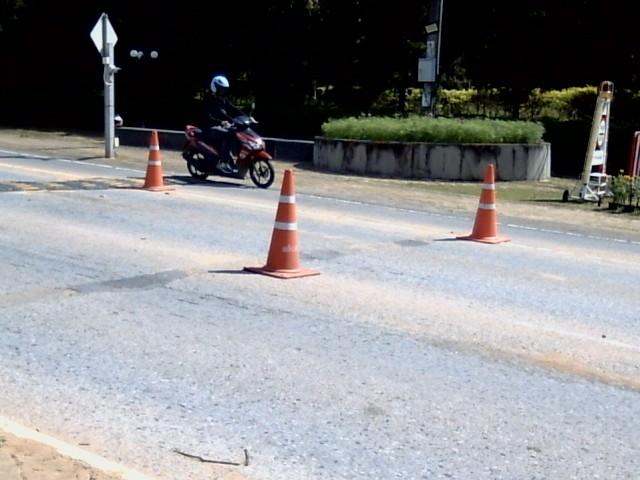helmet: (210, 72, 229, 95)
motor: (182, 114, 272, 188)
person: (199, 75, 242, 171)
